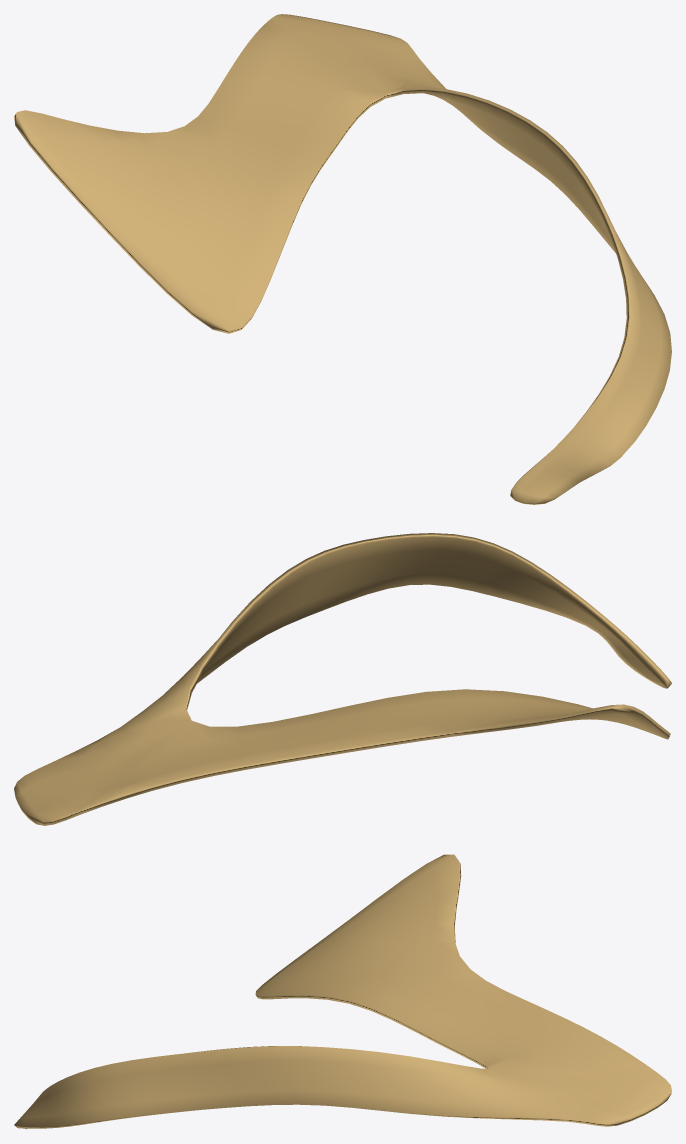
3 renders of one model, top to bottom at view 1: azimuth 30°, elevation 25°; view 2: azimuth 150°, elevation 25°; view 3: azimuth 270°, elevation 25°, orthographic. The views are drawn at different scales.
Visible parts, largest first — view 1: 左侧腘弓状韧带; view 2: 左侧腘弓状韧带; view 3: 左侧腘弓状韧带.
Part boxes in pixels (x1,y1,x2,y2): 左侧腘弓状韧带: (14,14,671,504); 左侧腘弓状韧带: (14,533,671,825); 左侧腘弓状韧带: (14,854,671,1129).
Bounding box in the file's own units: 0.0686 × 0.0324 × 0.1053.
